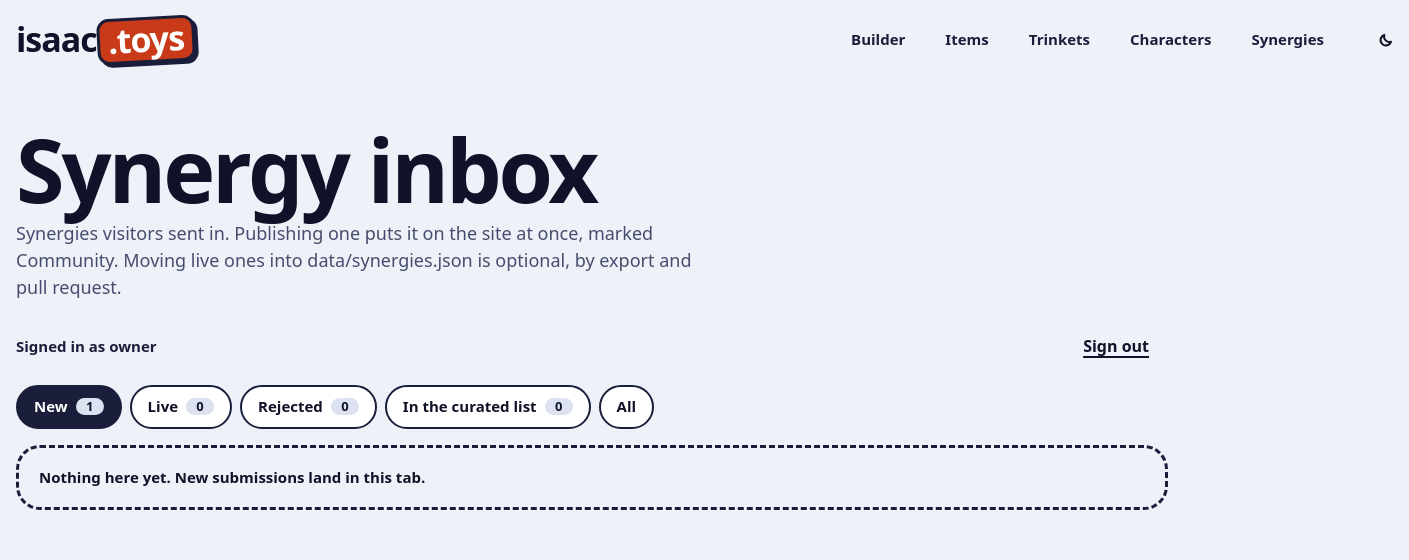
admin inbox › stays signed in, and says so, when the sign-out never reached the server
expect the heading "Synergy inbox" is shown: met, box x1=16 y1=109 x2=596 y2=229
Click the button "Sign out".
click(1116, 347)  # box x1=1064 y1=325 x2=1168 y2=369
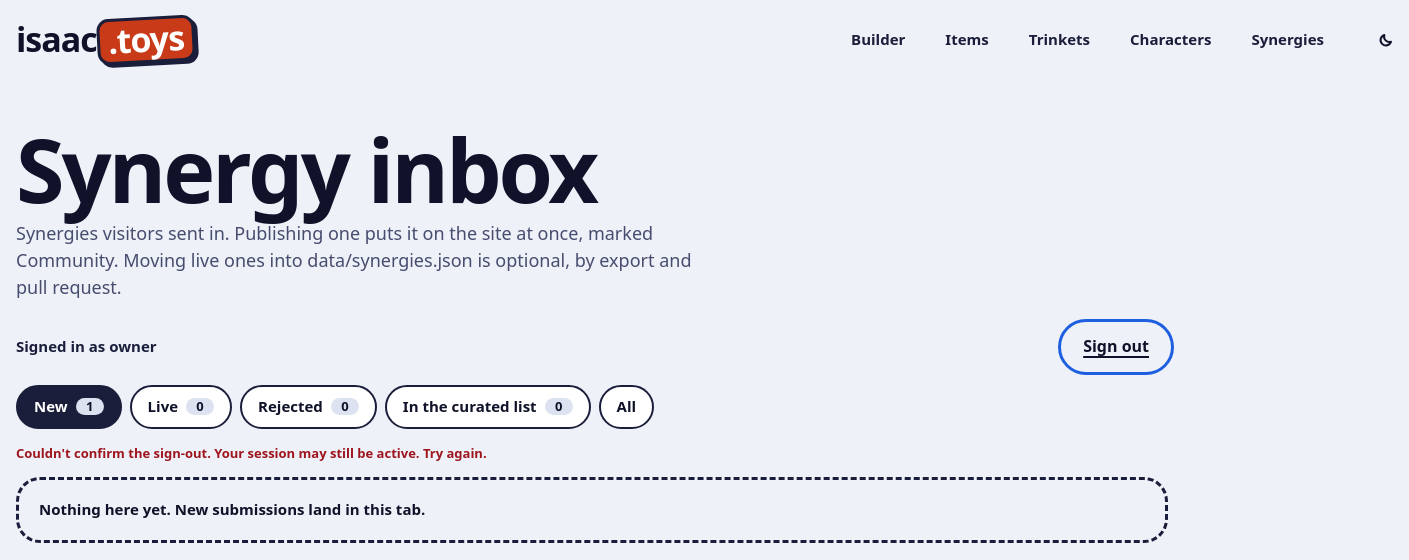
expect the message shows "Couldn't confirm the sign-out. Your session may still be active.": met, box x1=16 y1=444 x2=487 y2=462
